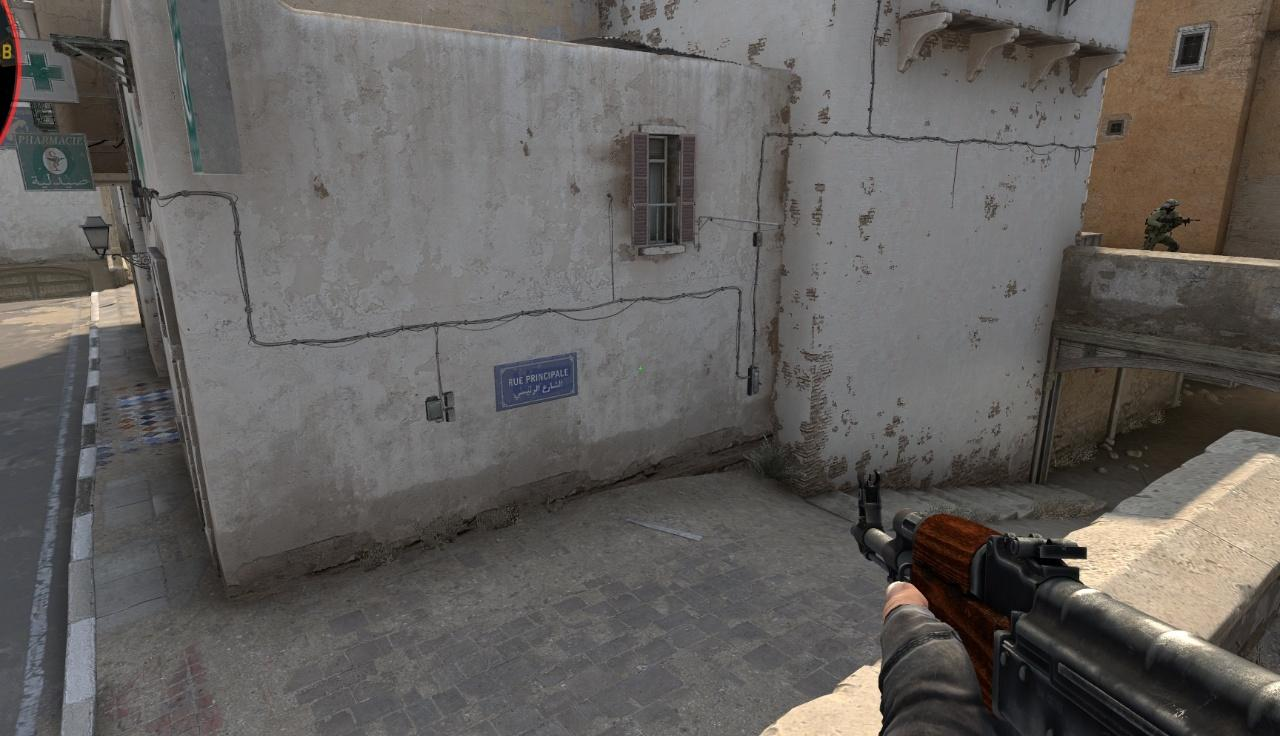ct: (1143, 199, 1180, 252)
cthead: (1164, 199, 1175, 212)
rifle: (851, 468, 1280, 736)
